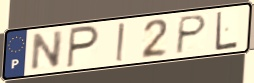2: (141, 18, 170, 60)
I: (114, 21, 126, 63)
L: (214, 10, 239, 52)
N: (28, 29, 66, 73)
P: (64, 24, 101, 70), (173, 13, 209, 56)
